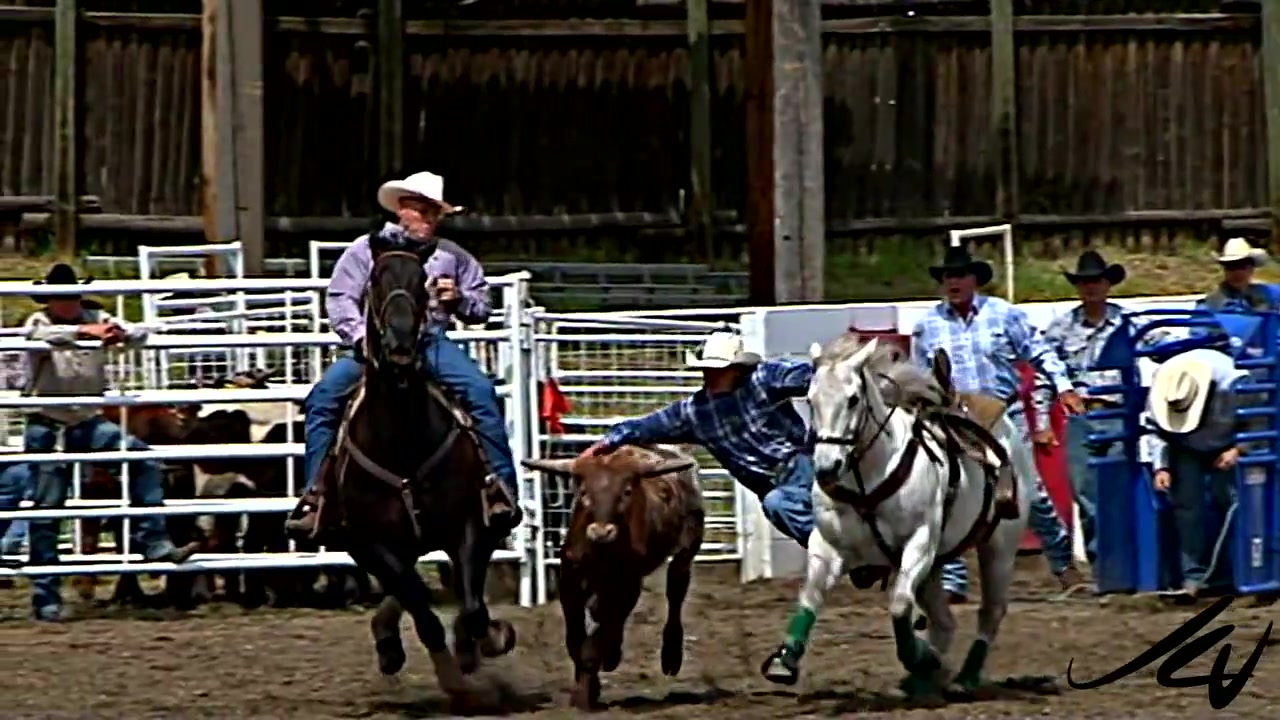horse: (764, 338, 1044, 694)
